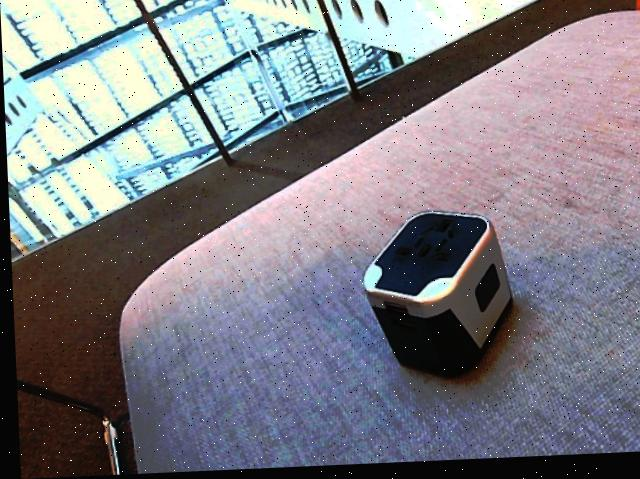adapter: (357, 211, 512, 384)
